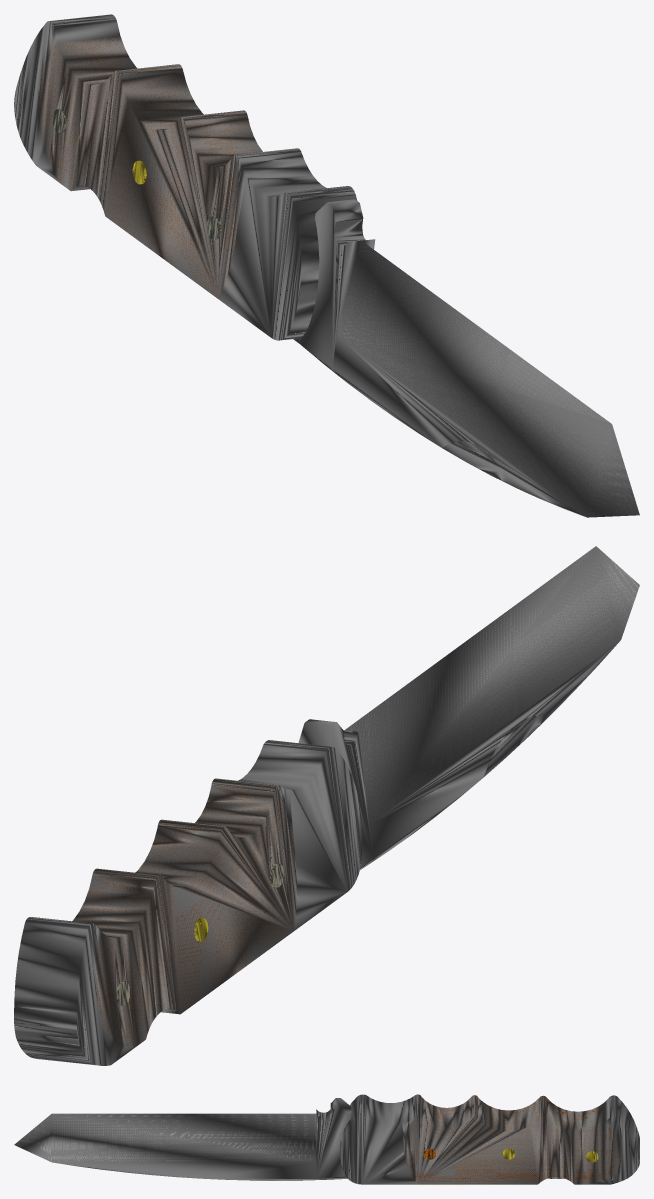
The model's file is model_align.obj.
The picture shows the model from 3 angles, top to bottom: view 1: azimuth 30°, elevation 25°; view 2: azimuth 150°, elevation 25°; view 3: azimuth 270°, elevation 25°; orthographic projection. The views are drawn at different scales.
Bounding box in the file's own units: 0.0158 × 0.0287 × 0.202.
5 materials, 5 textured.
